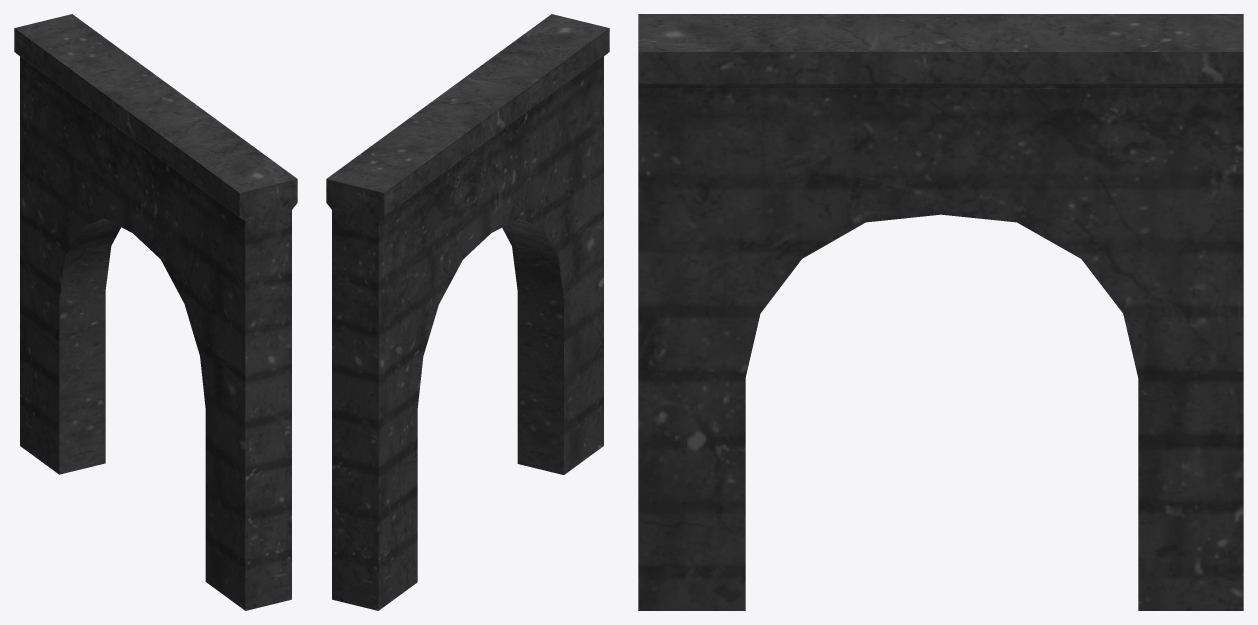
Rendered from Hela_vägen.fbx.
3 views of the same model, side by side, from view 1: azimuth 30°, elevation 25°; view 2: azimuth 150°, elevation 25°; view 3: azimuth 270°, elevation 25° (orthographic). The views are drawn at different scales.
Visible parts, largest first — view 1: Tunnel; view 2: Tunnel; view 3: Tunnel.
Boxes of the visible parts, bbox=[...] form: Tunnel: bbox=[14, 14, 297, 610]; Tunnel: bbox=[326, 14, 609, 610]; Tunnel: bbox=[638, 14, 1243, 610].
Size of the model in its own units: 53.26 by 368 by 359.
1 material, 1 textured.
